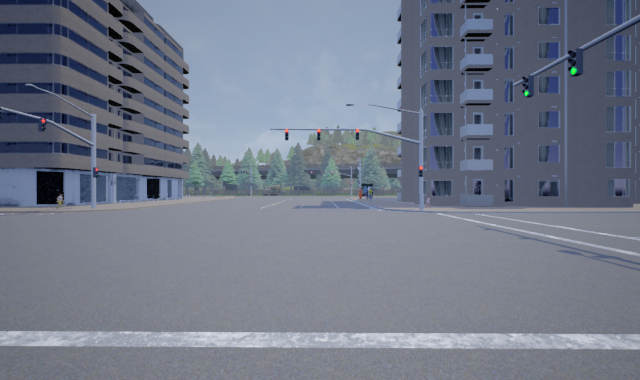pedestrian: (52, 192, 67, 209), (423, 195, 433, 210), (367, 186, 373, 202), (357, 187, 363, 201)
traffic_light: (567, 49, 584, 77), (521, 73, 534, 98), (38, 117, 47, 132), (316, 128, 322, 141), (417, 164, 423, 176), (284, 127, 289, 140), (354, 127, 359, 139), (92, 166, 97, 176)
